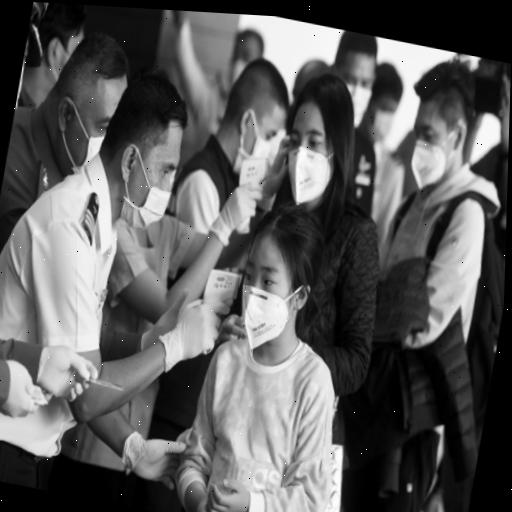mask: (89, 54, 196, 248), (224, 187, 323, 364), (36, 20, 138, 191), (392, 48, 483, 201), (276, 61, 356, 220), (210, 44, 298, 187), (320, 30, 386, 139)
